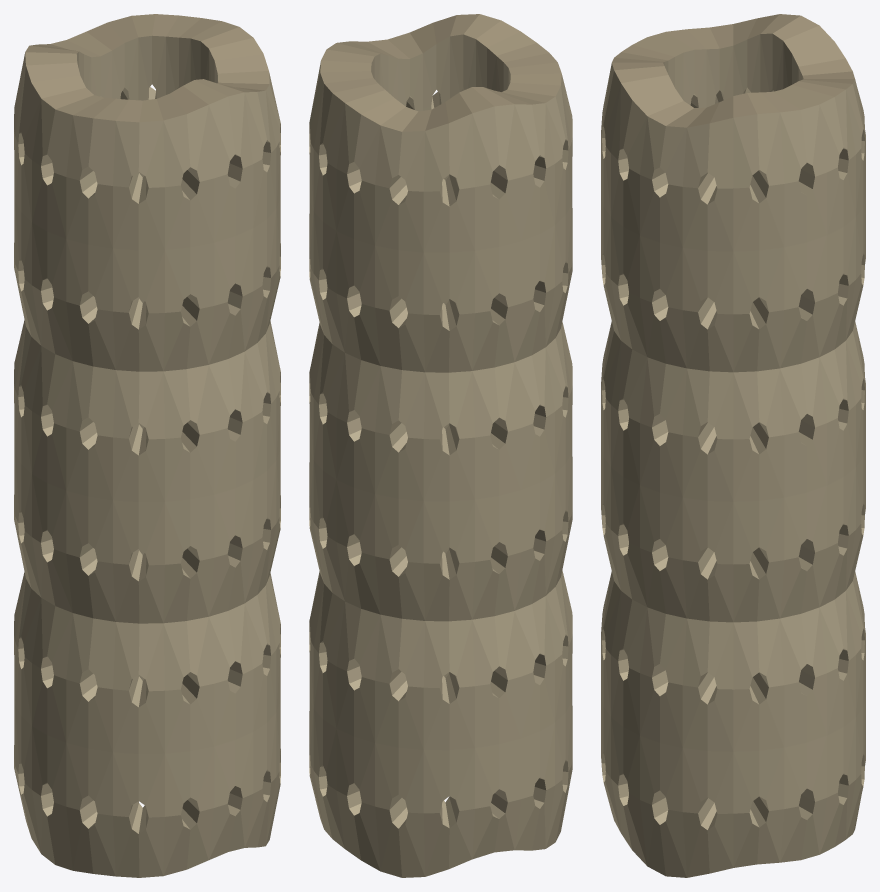
The model's file is diplopora.glb.
The picture shows the model from 3 angles, left to right: view 1: azimuth 30°, elevation 25°; view 2: azimuth 150°, elevation 25°; view 3: azimuth 270°, elevation 25°; orthographic projection.
Parts seen in each view (by area): view 1: annulated-fossil-wall-96-through-pores-open-lumen; view 2: annulated-fossil-wall-96-through-pores-open-lumen; view 3: annulated-fossil-wall-96-through-pores-open-lumen.
Part boxes in pixels (x1,y1,x2,y2): annulated-fossil-wall-96-through-pores-open-lumen: (14, 14, 280, 877); annulated-fossil-wall-96-through-pores-open-lumen: (309, 14, 572, 877); annulated-fossil-wall-96-through-pores-open-lumen: (601, 14, 865, 877).
Size of the model in its own units: 0.032 by 0.1033 by 0.032.
